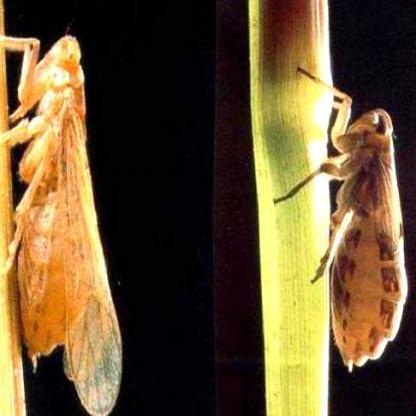brown-planthopper: (4, 22, 121, 416), (325, 87, 411, 376)
